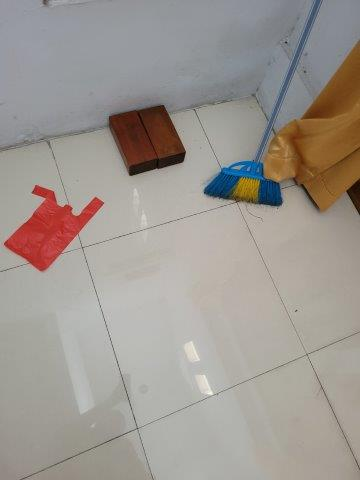plastik: (4, 185, 106, 272)
